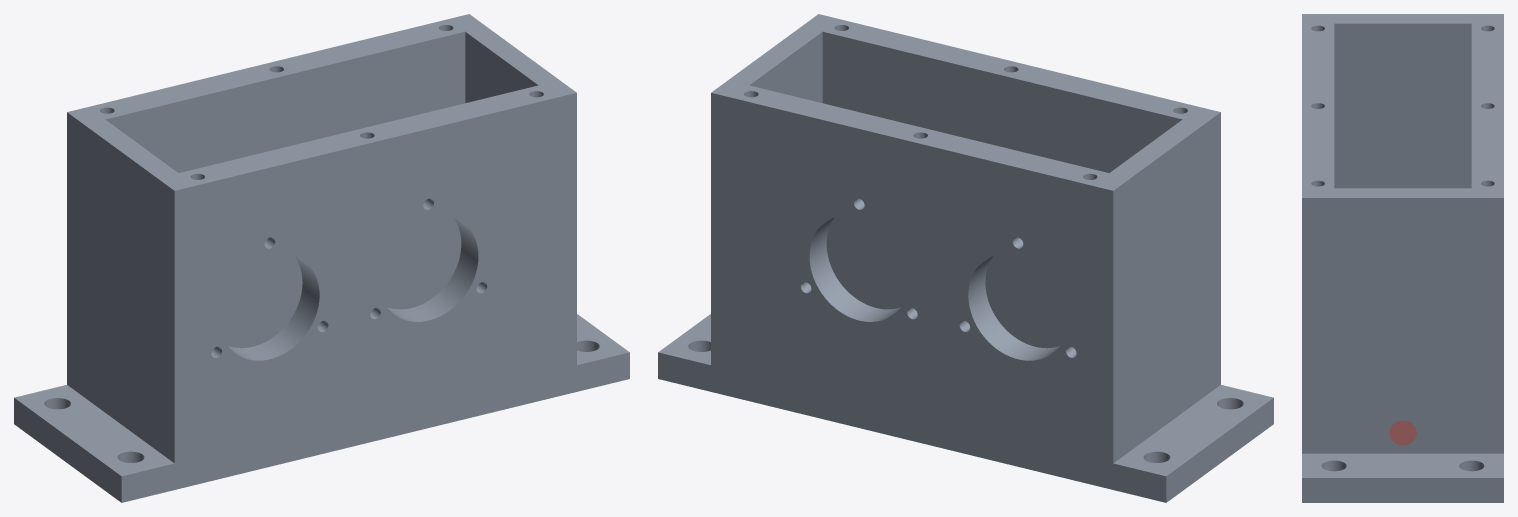
The model's file is step_06.glb.
3 renders of one model, left to right at view 1: azimuth 30°, elevation 25°; view 2: azimuth 150°, elevation 25°; view 3: azimuth 270°, elevation 25°, orthographic. The views are drawn at different scales.
Visible parts, largest first — view 1: part__gearbox housing; view 2: part__gearbox housing; view 3: part__gearbox housing, removed__gearbox housing.
Boxes of the visible parts, left/top/right/bottom form: part__gearbox housing: left=14, top=14, right=629, bottom=502; part__gearbox housing: left=658, top=14, right=1273, bottom=502; part__gearbox housing: left=1302, top=14, right=1503, bottom=502; removed__gearbox housing: left=1389, top=420, right=1416, bottom=445.
Size of the model in its own units: 240 by 135 by 88.
